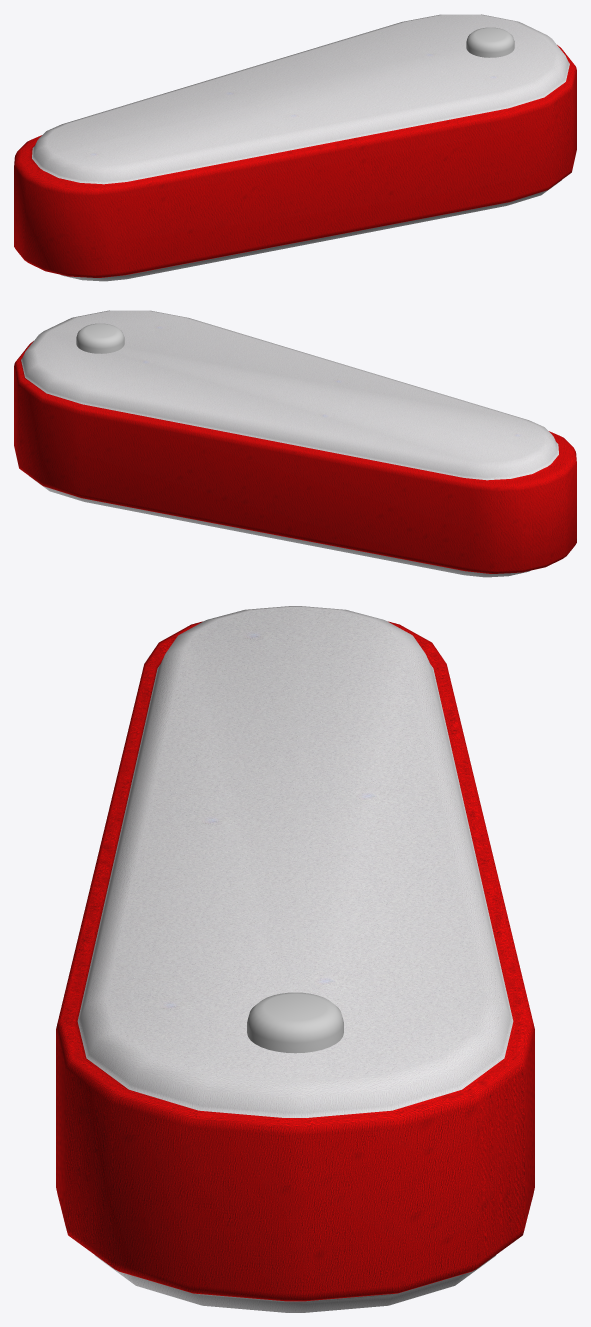
File: Bumber.fbx
3 renders of one model, top to bottom at view 1: azimuth 30°, elevation 25°; view 2: azimuth 150°, elevation 25°; view 3: azimuth 270°, elevation 25°, orthographic. The views are drawn at different scales.
Visible parts, largest first — view 1: Bumper; view 2: Bumper; view 3: Bumper.
Boxes of the visible parts, <box> form: Bumper: <box>14,14,576,281</box>; Bumper: <box>14,310,576,577</box>; Bumper: <box>56,606,534,1312</box>.
Size of the model in its own units: 9.73 by 2.22 by 3.78.
